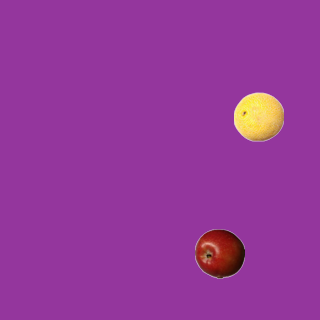Apple Braeburn: (194, 228, 244, 278)
Cantaloupe 1: (233, 91, 283, 141)
